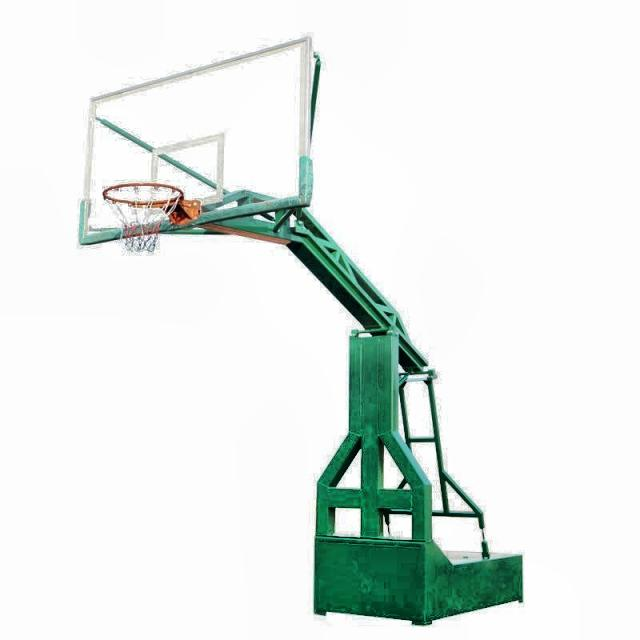rim: (102, 181, 181, 253)
